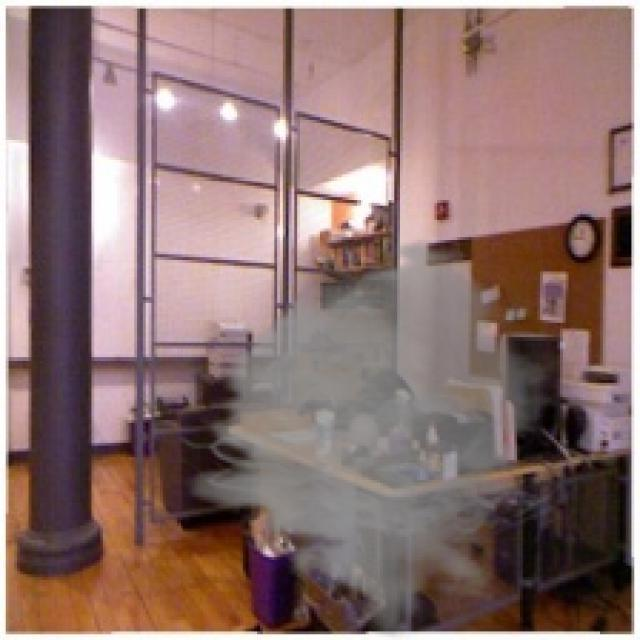Smoke: (172, 237, 588, 637)
